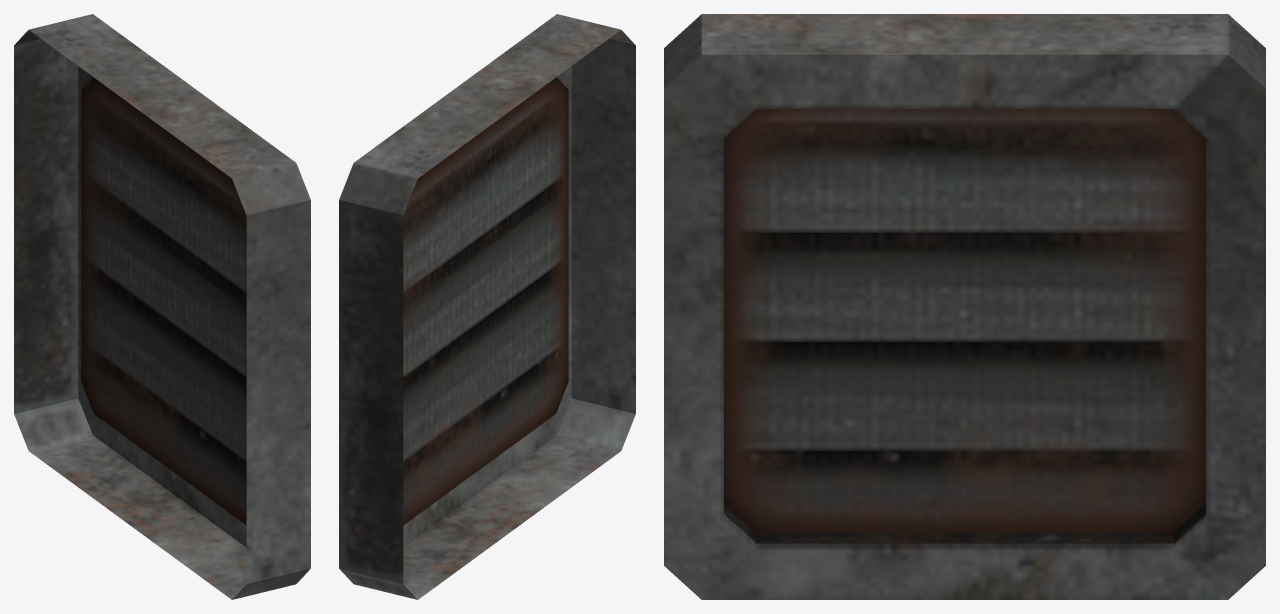
Rendered from VentExit.FBX.
3 renders of one model, left to right at view 1: azimuth 30°, elevation 25°; view 2: azimuth 150°, elevation 25°; view 3: azimuth 270°, elevation 25°, orthographic. The views are drawn at different scales.
Parts seen in each view (by area): view 1: VentExit; view 2: VentExit; view 3: VentExit.
Part boxes in pixels (bbox=[...]): VentExit: bbox=[14, 14, 310, 599]; VentExit: bbox=[339, 14, 635, 599]; VentExit: bbox=[664, 14, 1265, 599].
Bounding box in the file's own units: 12.77 × 79.96 × 79.96.
